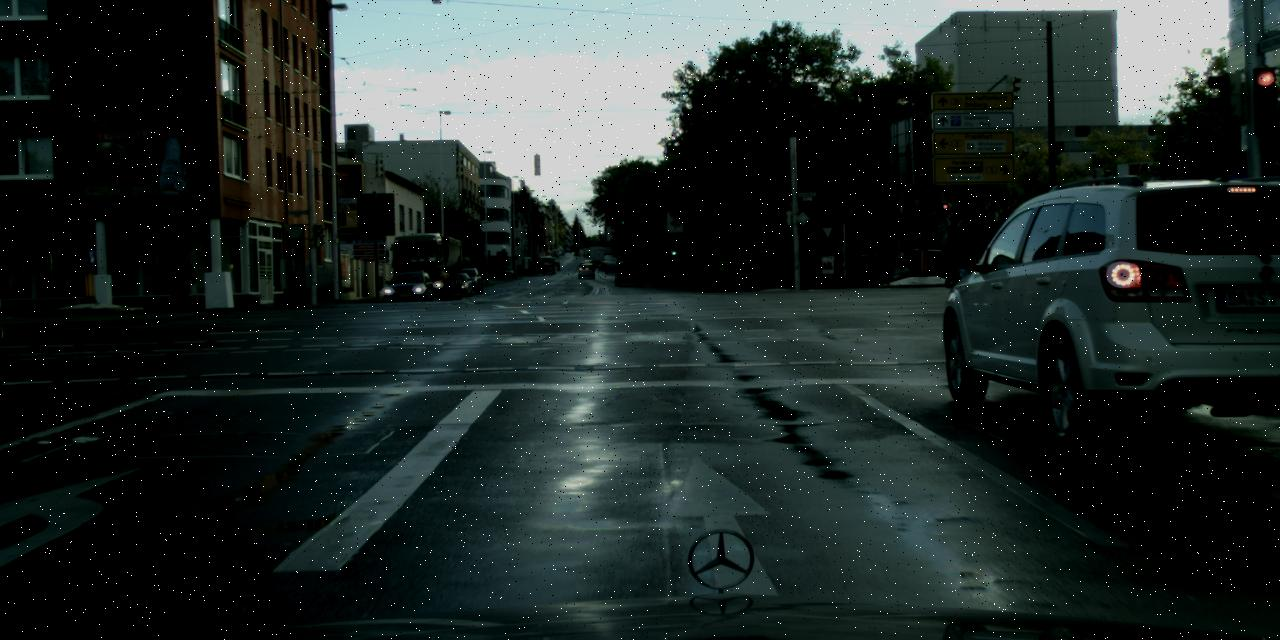ped: (934, 203, 988, 334), (172, 254, 192, 307)
